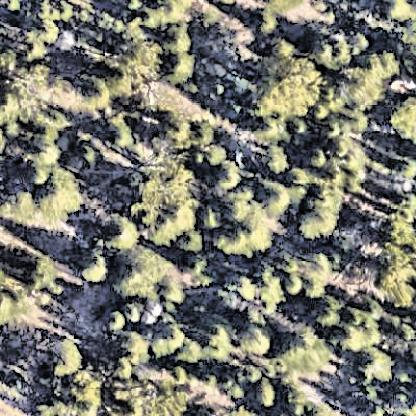tree-top: (244, 43, 322, 124), (220, 192, 282, 255), (292, 178, 352, 243), (111, 244, 174, 302), (34, 166, 87, 217), (0, 349, 44, 409), (371, 245, 416, 302), (337, 306, 381, 357), (23, 248, 72, 293), (130, 168, 185, 205), (44, 334, 87, 379), (110, 327, 154, 369), (138, 379, 186, 416), (100, 212, 143, 253), (356, 347, 400, 386), (287, 329, 331, 366), (386, 90, 416, 142), (2, 185, 41, 225), (237, 320, 276, 358), (162, 47, 198, 86), (203, 321, 238, 361), (76, 248, 111, 285), (257, 268, 290, 307), (260, 140, 295, 176), (286, 385, 326, 416), (160, 20, 195, 55), (381, 214, 415, 244), (27, 139, 62, 165), (252, 376, 280, 408), (252, 6, 280, 36), (0, 284, 24, 318), (19, 32, 47, 61), (164, 114, 188, 147), (175, 336, 202, 365), (104, 304, 130, 334), (83, 78, 113, 104), (106, 60, 132, 90), (228, 274, 256, 301), (160, 1, 191, 25), (40, 0, 72, 23), (37, 16, 64, 43), (204, 142, 232, 168), (160, 206, 186, 234), (362, 56, 398, 76), (119, 37, 149, 61), (179, 230, 204, 258), (327, 139, 352, 165), (122, 298, 146, 325), (198, 208, 223, 232), (387, 0, 414, 22), (223, 376, 247, 400), (109, 127, 134, 150), (0, 46, 19, 76), (330, 42, 353, 66), (305, 274, 328, 298), (194, 124, 216, 149), (316, 39, 335, 67), (312, 303, 334, 327), (316, 91, 338, 115), (108, 382, 134, 402), (0, 119, 23, 141), (346, 109, 367, 133), (34, 122, 58, 142), (288, 164, 306, 190), (306, 149, 327, 171), (286, 273, 304, 297), (399, 157, 416, 182), (325, 122, 341, 140), (292, 119, 308, 136), (124, 0, 145, 11), (6, 0, 23, 13)
